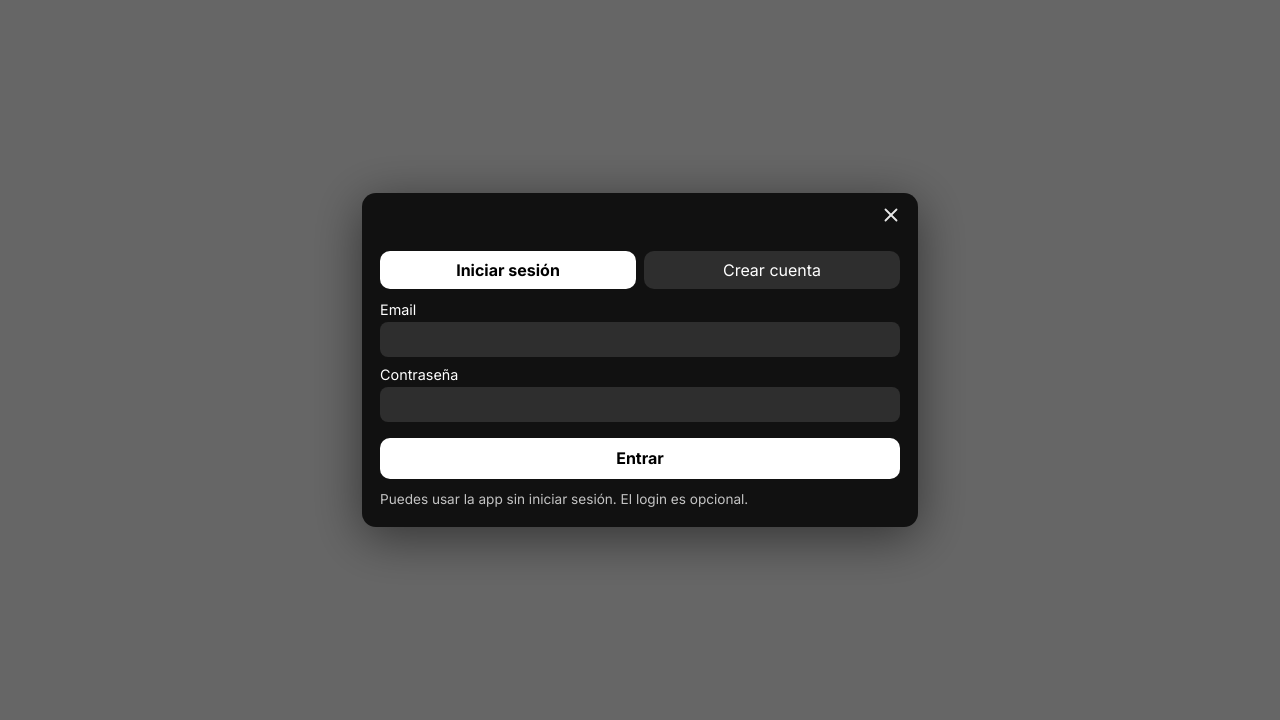
it: AuthModal › muestra error si signIn lanza excepción
Type "bad@test.com" into the field labelled "Email".
click(640, 339); type("bad@test.com")  # box [380,322,900,357]
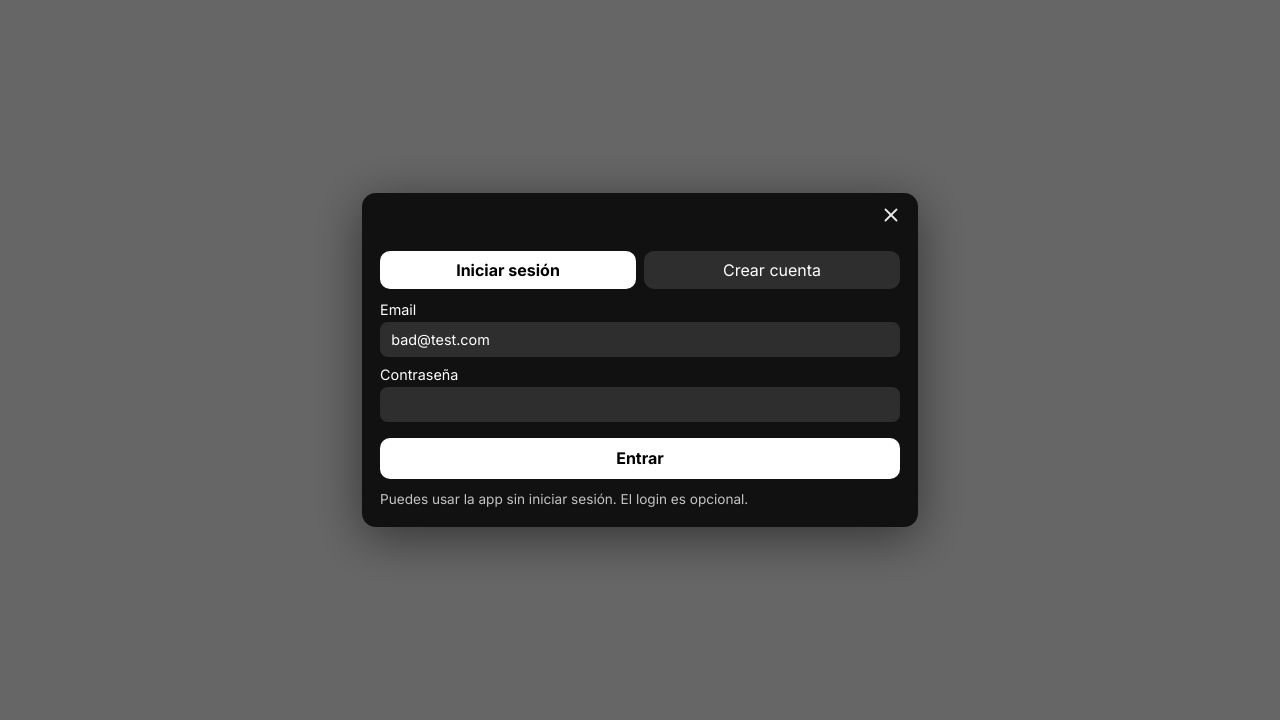
Type "wrong" into the password field labelled "Contraseña".
click(640, 404); type("wrong")  # box [380,387,900,422]
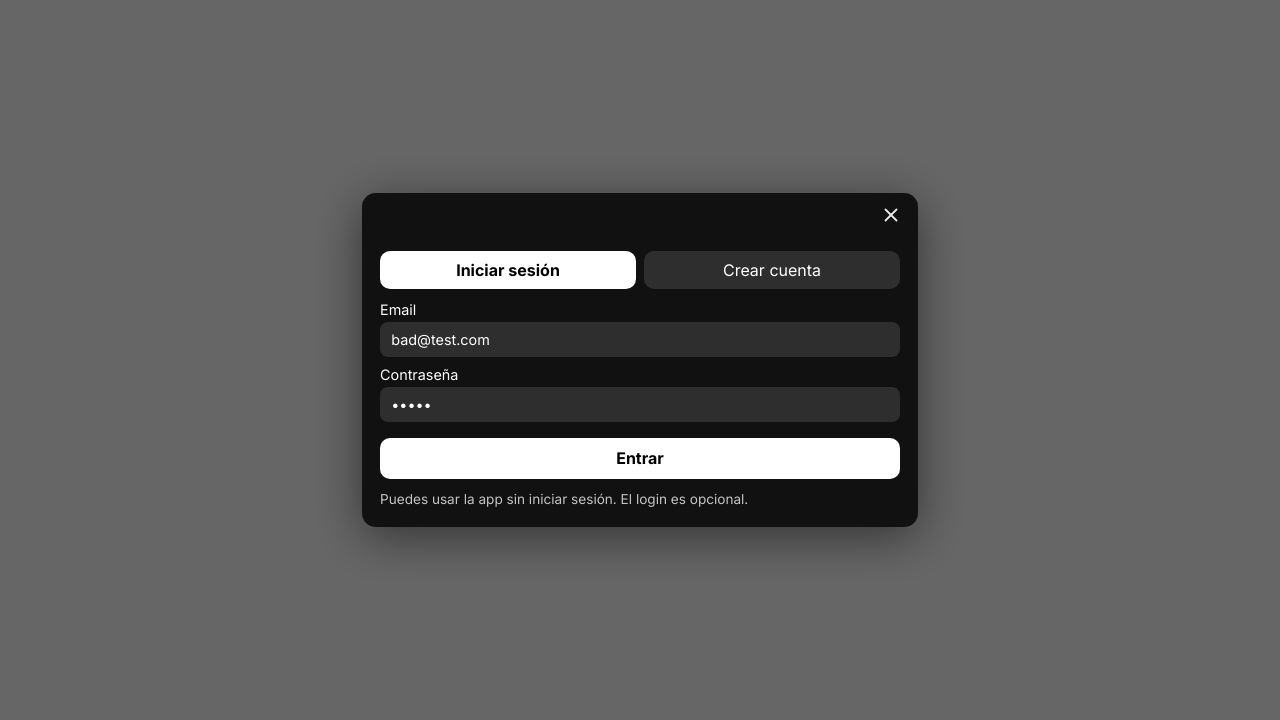
Submit the form from the button "Entrar", box [380,438,900,479]
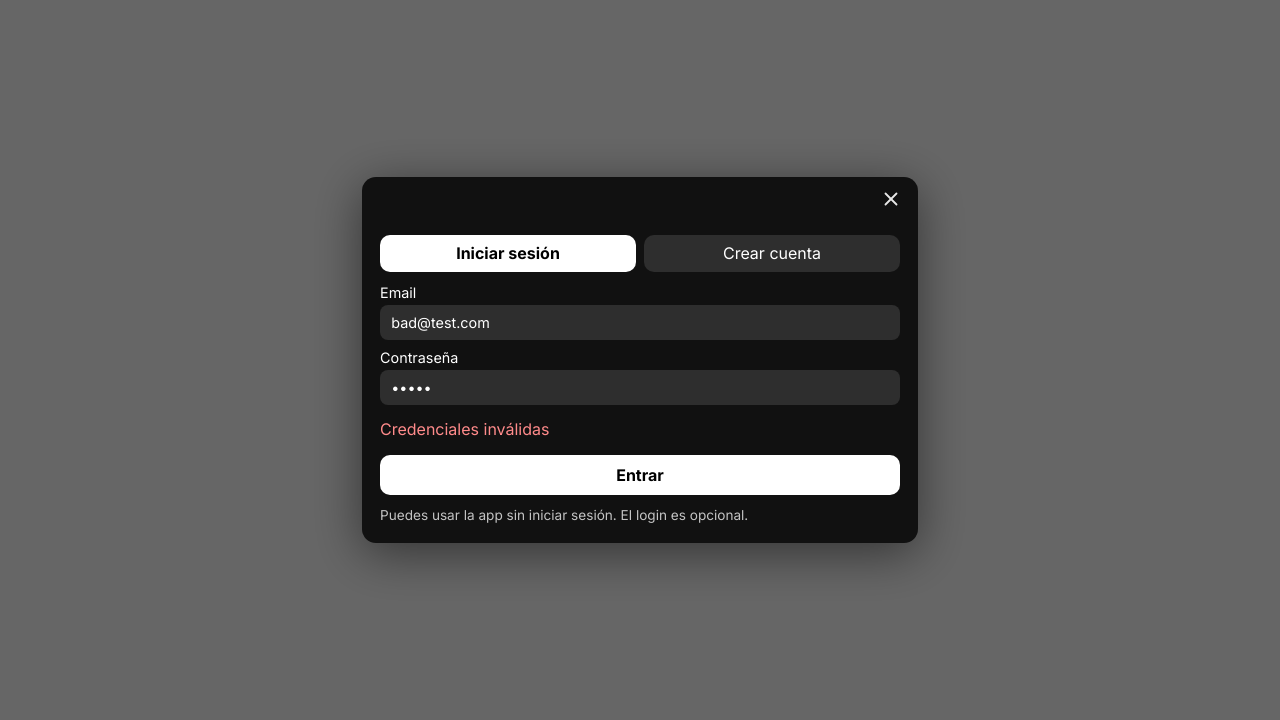
Now the text "Credenciales inválidas" is shown, box [380,419,550,439]
